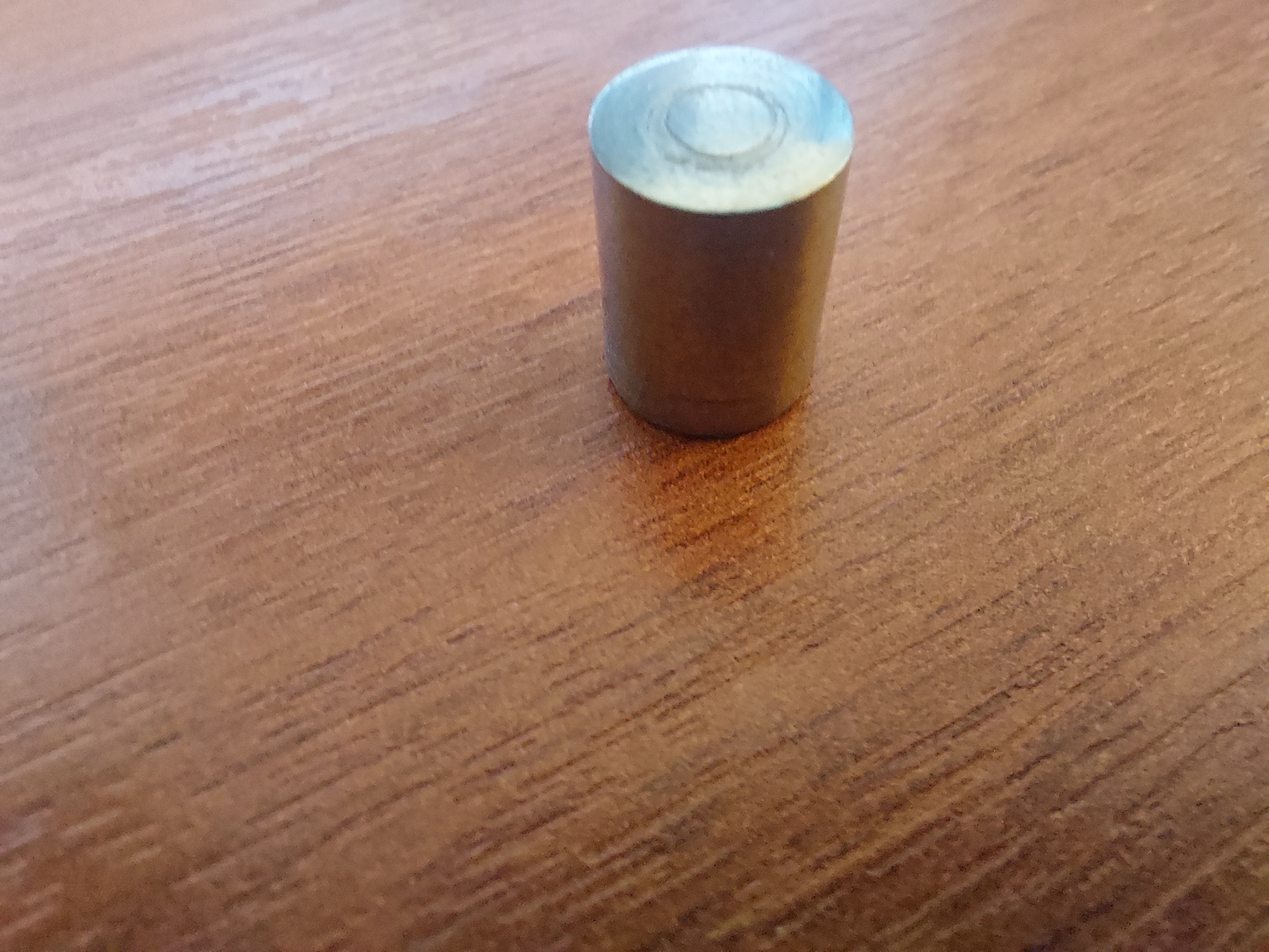tablet: (572, 44, 868, 453)
